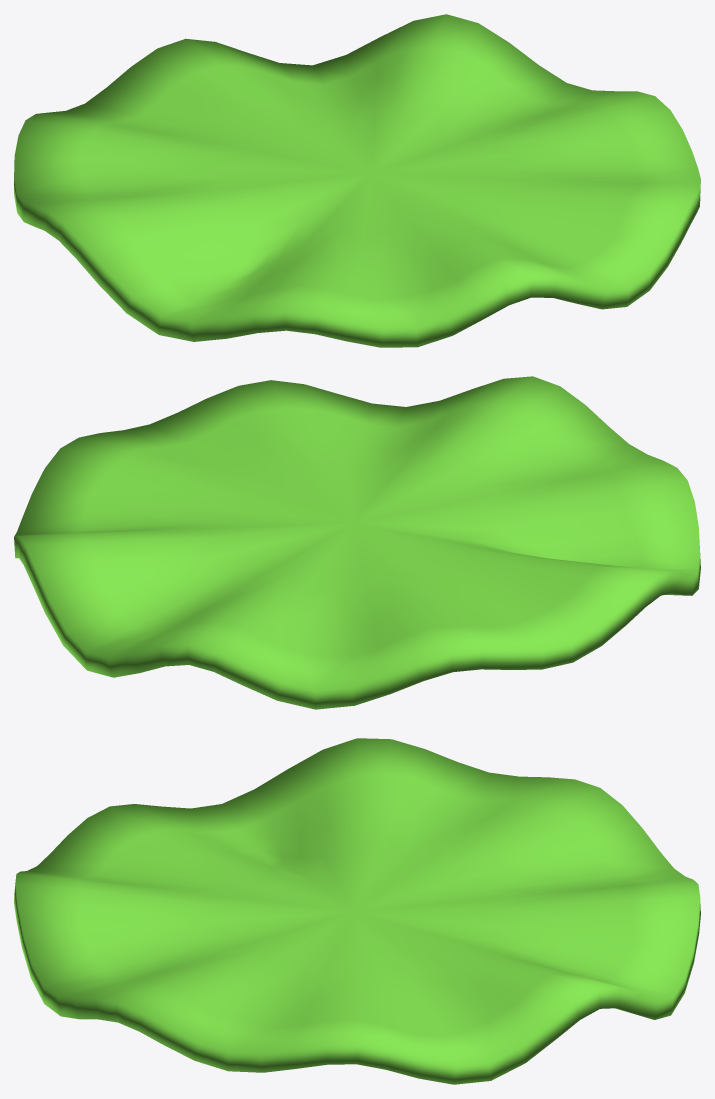
The model's file is lettuce.fbx.
The picture shows the model from 3 angles, top to bottom: view 1: azimuth 30°, elevation 25°; view 2: azimuth 150°, elevation 25°; view 3: azimuth 270°, elevation 25°; orthographic projection.
Visible parts, largest first — view 1: Circle.001; view 2: Circle.001; view 3: Circle.001.
Part boxes in pixels (bbox=[...]): Circle.001: bbox=[14, 14, 700, 347]; Circle.001: bbox=[14, 376, 700, 709]; Circle.001: bbox=[14, 738, 700, 1084].
Size of the model in its own units: 195 by 24.77 by 196.
